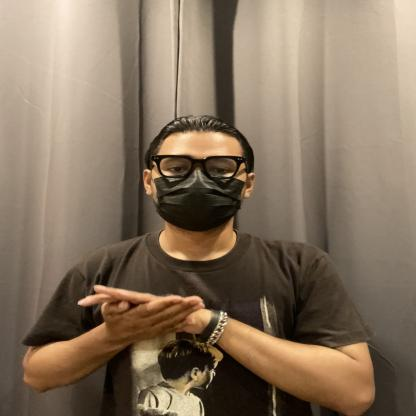Love: (69, 267, 290, 357)
